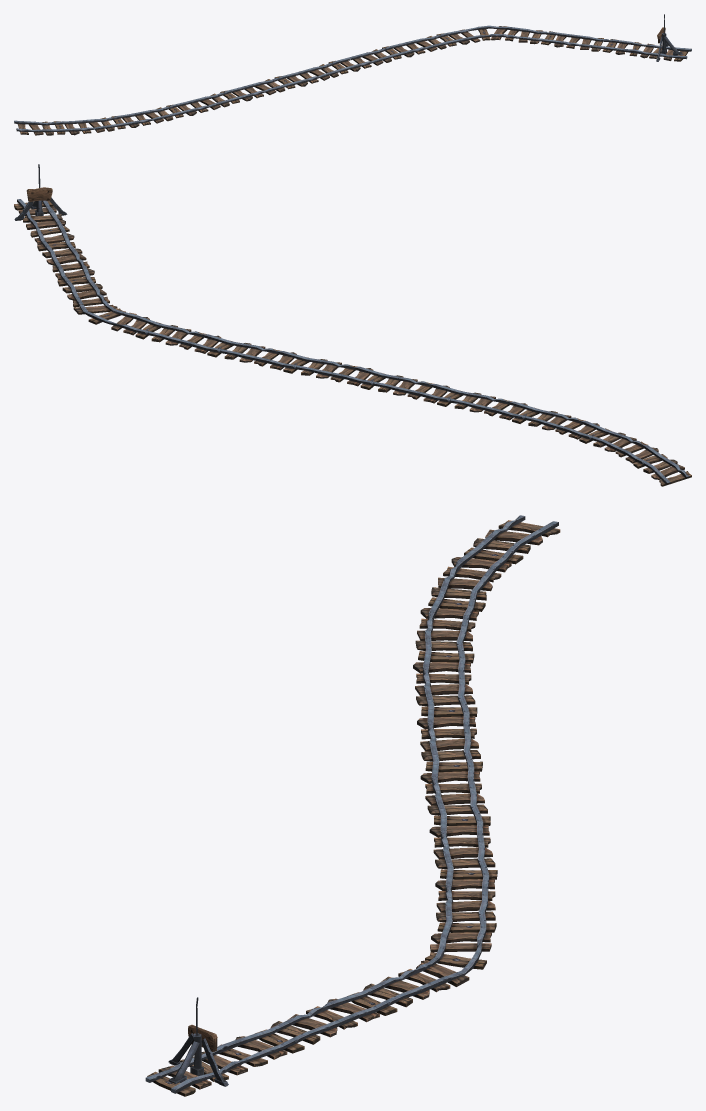
File: object_mine_rails.fbx
The picture shows the model from 3 angles, top to bottom: view 1: azimuth 30°, elevation 25°; view 2: azimuth 150°, elevation 25°; view 3: azimuth 270°, elevation 25°; orthographic projection. The views are drawn at different scales.
Parts seen in each view (by area): view 1: obj1.019; view 2: obj1.019; view 3: obj1.019.
Boxes of the visible parts, left/top/right/bottom form: obj1.019: left=14, top=14, right=691, bottom=135; obj1.019: left=14, top=164, right=691, bottom=486; obj1.019: left=145, top=515, right=560, bottom=1096.
Bounding box in the file's own units: 42.84 × 2.76 × 13.06.
